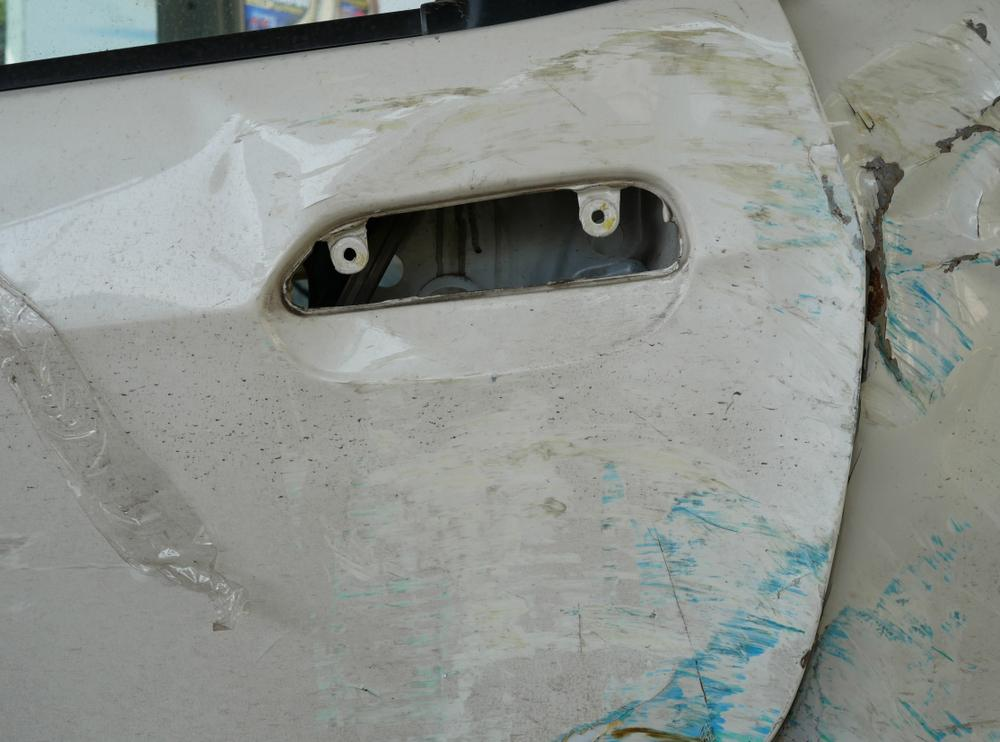dent: (829, 9, 1000, 404), (209, 132, 304, 280)
scratch: (288, 18, 861, 424), (315, 420, 827, 742), (814, 498, 1000, 742)
